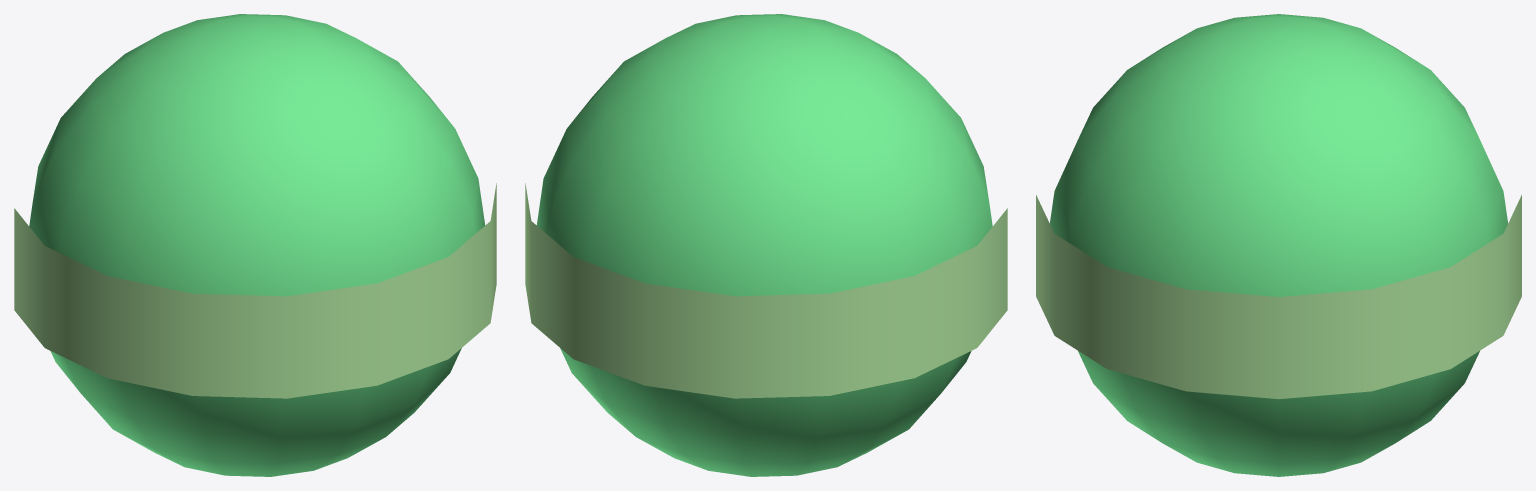
Rendered from snake_green_body.glb.
The picture shows the model from 3 angles, left to right: view 1: azimuth 30°, elevation 25°; view 2: azimuth 150°, elevation 25°; view 3: azimuth 270°, elevation 25°; orthographic projection.
Bounding box in the file's own units: 0.69 × 0.66 × 0.69.
